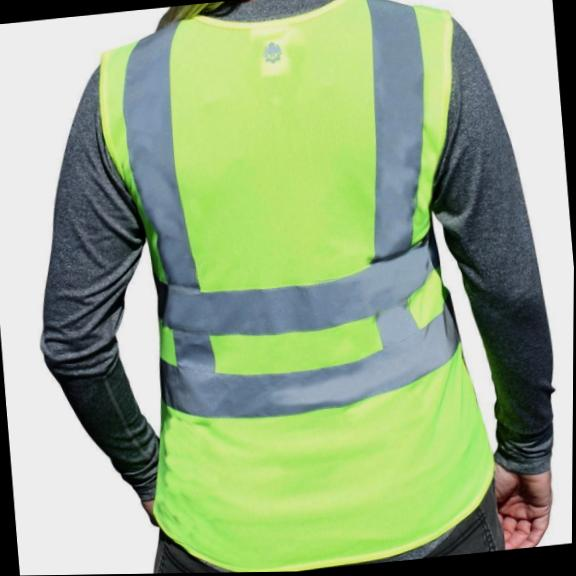safety_vest: (89, 0, 508, 575)
